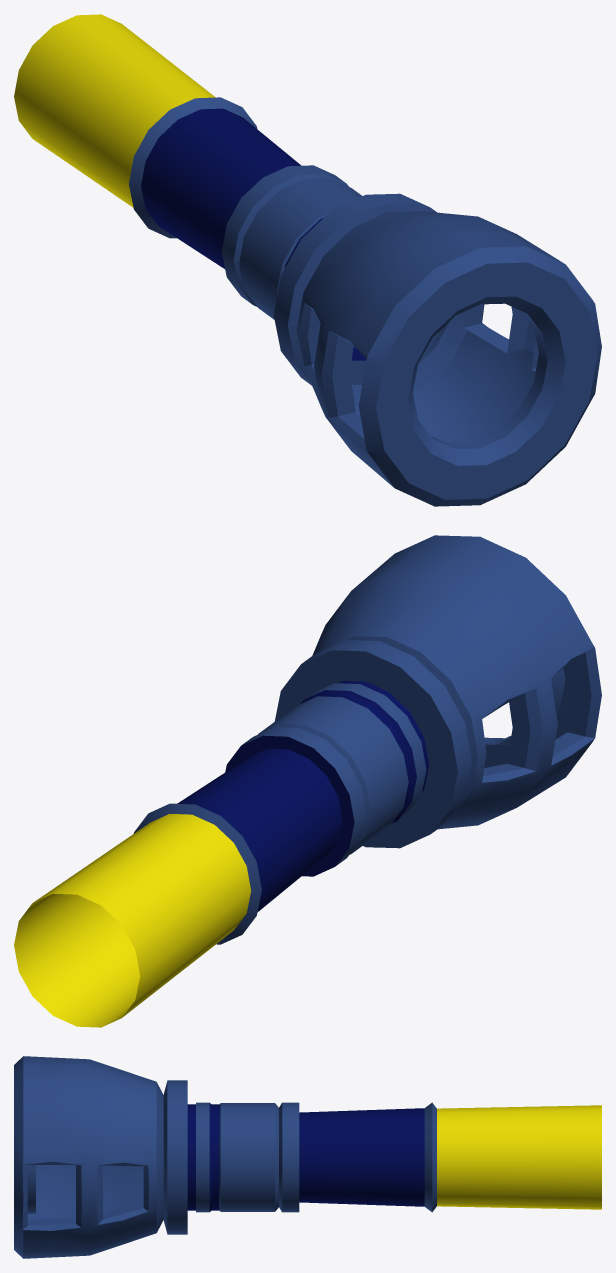
Rendered from Station_Cannon_Howitzer_Barrel.FBX.
3 renders of one model, top to bottom at view 1: azimuth 30°, elevation 25°; view 2: azimuth 150°, elevation 25°; view 3: azimuth 270°, elevation 25°, orthographic. The views are drawn at different scales.
Visible parts, largest first — view 1: Station_Cannon_Howitzer_Barrel; view 2: Station_Cannon_Howitzer_Barrel; view 3: Station_Cannon_Howitzer_Barrel.
Part boxes in pixels (<box>): Station_Cannon_Howitzer_Barrel: <box>14,14,601,506</box>; Station_Cannon_Howitzer_Barrel: <box>14,535,601,1027</box>; Station_Cannon_Howitzer_Barrel: <box>14,1056,601,1258</box>.
Size of the model in its own units: 5.1 by 5.16 by 14.89.
